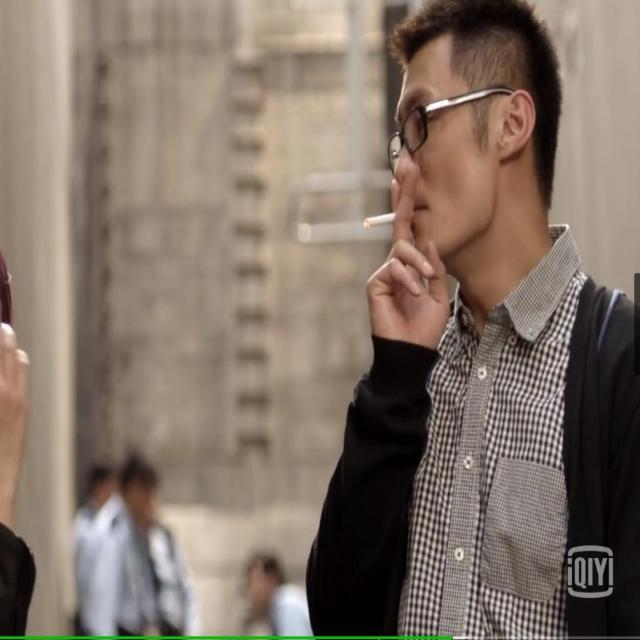smoke: (358, 210, 392, 235)
